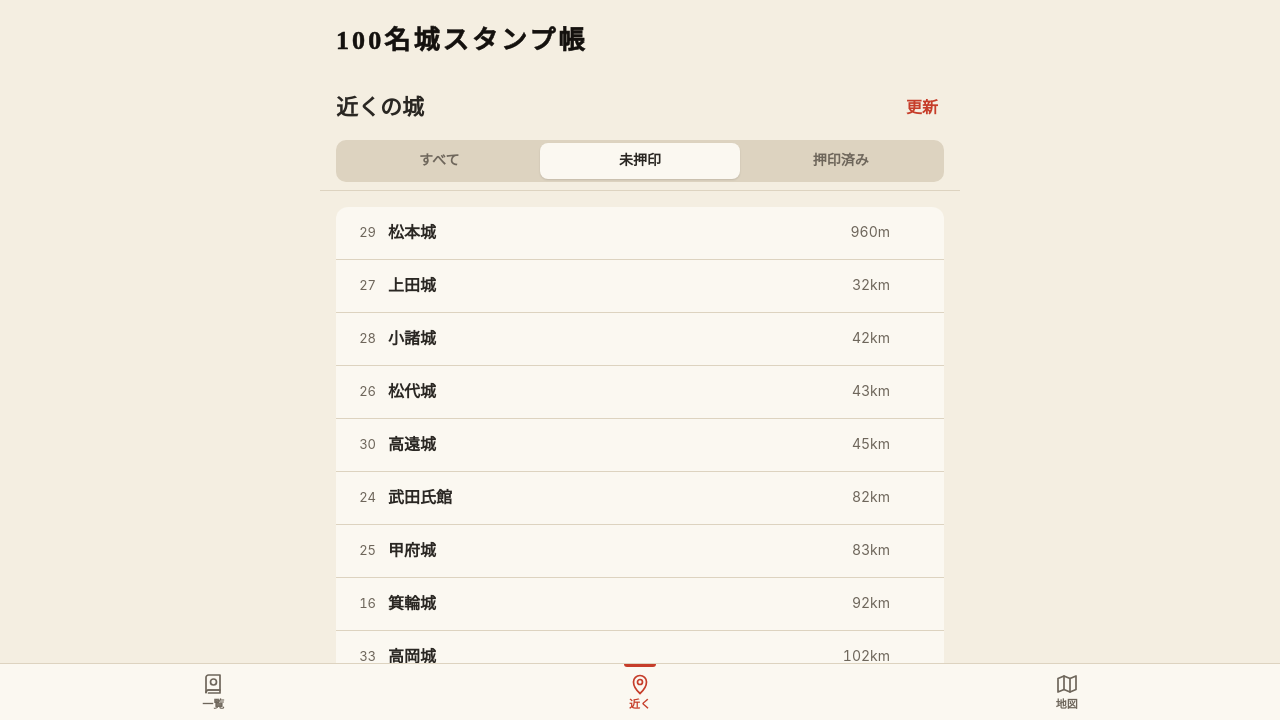
Test: App › 近くタブ › 近くの一覧から開いた詳細画面は「近くに戻る」で近くの一覧に戻る
Click the link "29 松本城 960m" at (412, 232), box [359, 222, 890, 242]
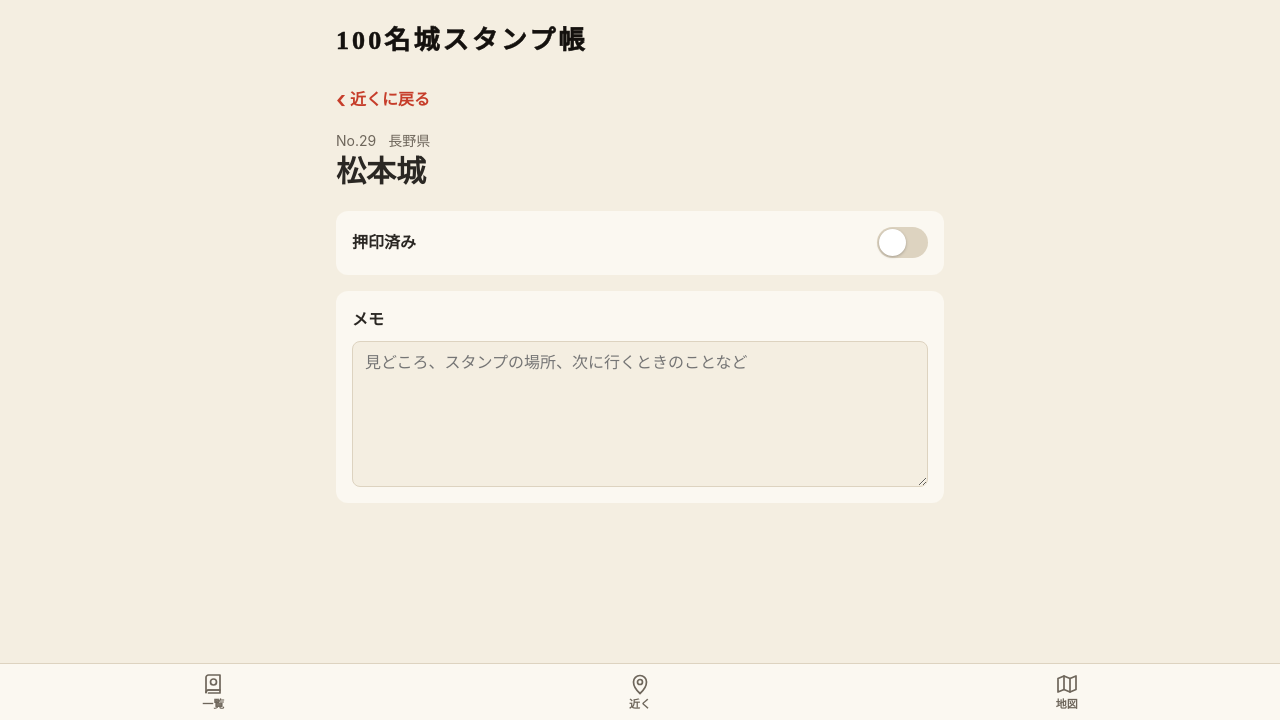
Expected: the heading "松本城" is shown, [336, 152, 430, 191]
Click the link "近くに戻る" at (383, 100), box [336, 78, 430, 122]
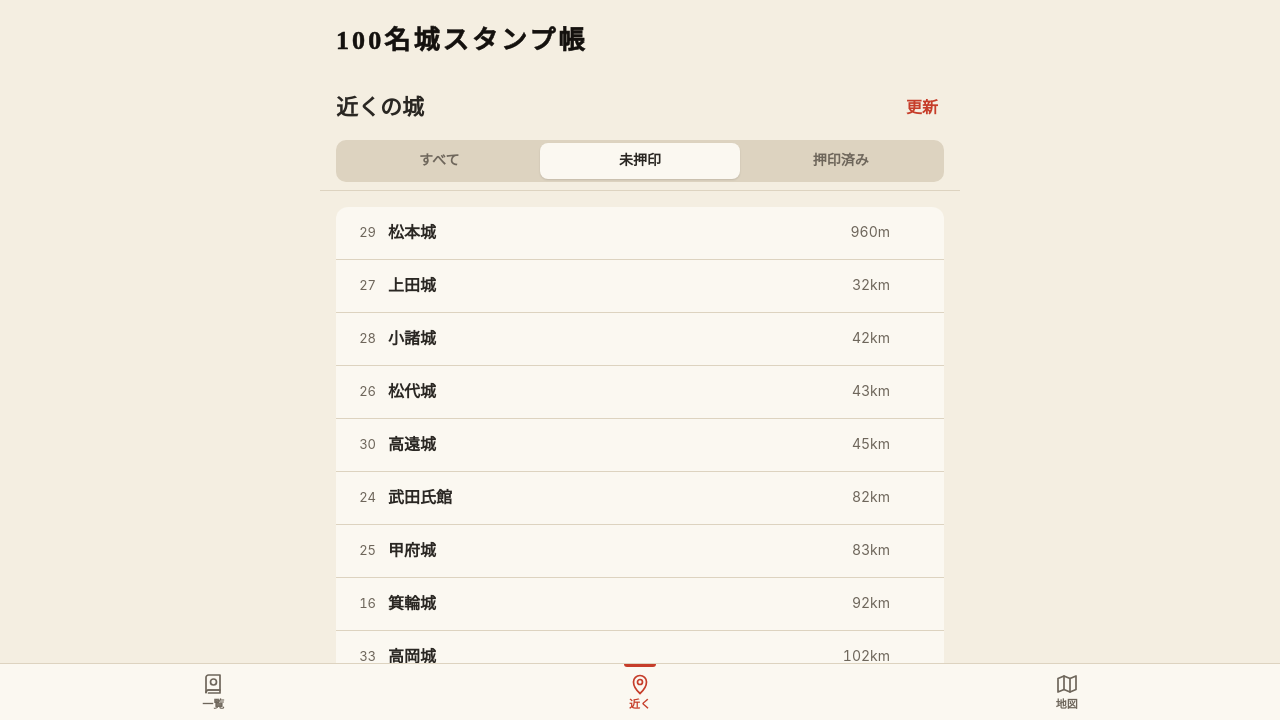
Expected: the link "29 松本城 960m" is shown, [359, 222, 890, 242]
Expected: the heading "近くの城" is shown, [336, 90, 424, 125]
